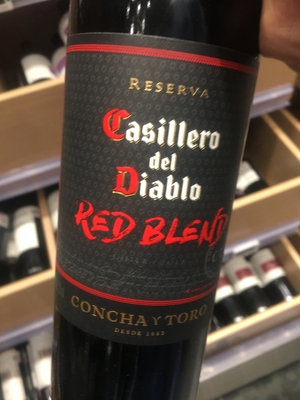casillero del diablo red blend: (52, 10, 269, 400)
